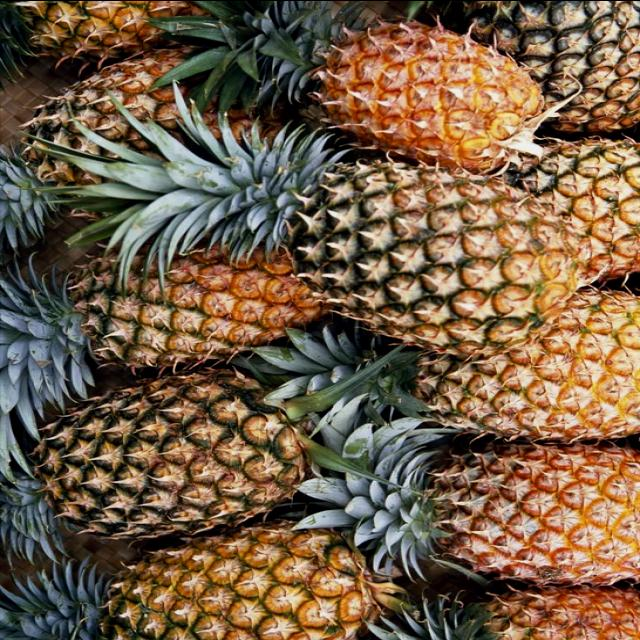pineapple: (282, 144, 636, 370), (9, 365, 316, 543), (20, 49, 282, 199), (376, 445, 640, 590), (62, 236, 330, 372), (98, 519, 383, 640)
